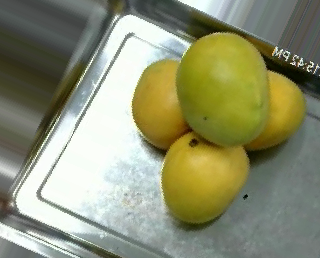Mango: (171, 28, 274, 148), (159, 129, 248, 225), (130, 57, 204, 153), (235, 66, 307, 151)
